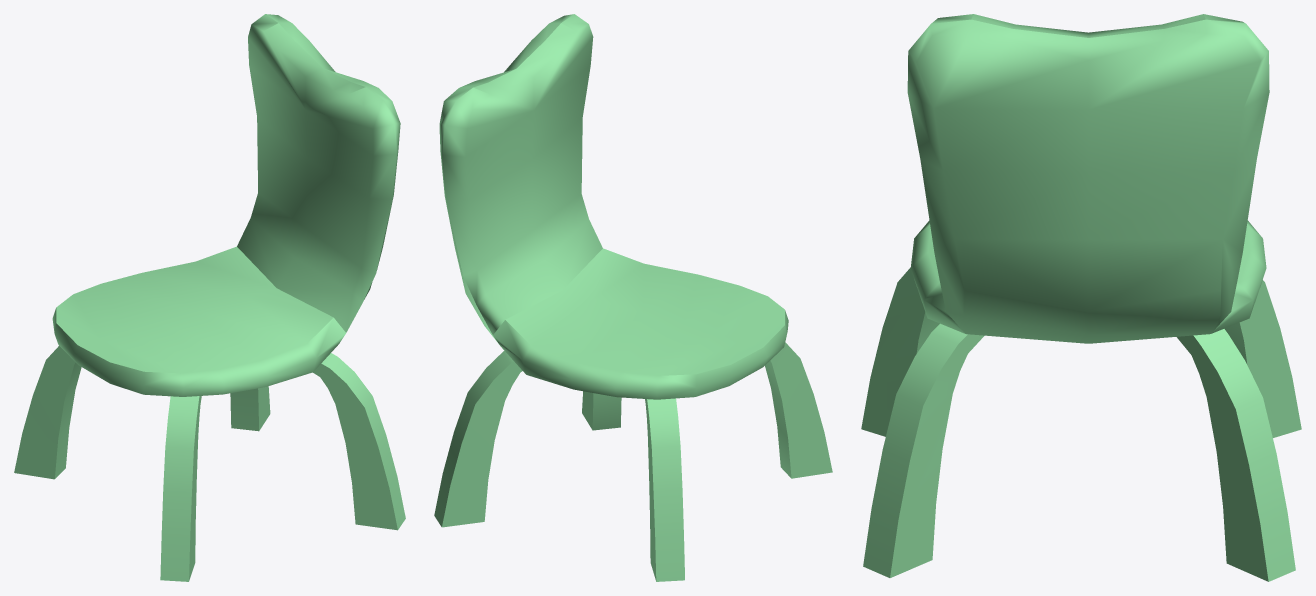
The model's file is Kökkö_chair.fbx.
The picture shows the model from 3 angles, left to right: view 1: azimuth 30°, elevation 25°; view 2: azimuth 150°, elevation 25°; view 3: azimuth 270°, elevation 25°; orthographic projection. The views are drawn at different scales.
Parts seen in each view (by area): view 1: Chair, Leg.003, Leg.001, Leg, Leg.002; view 2: Chair, Leg.002, Leg, Leg.001, Leg.003; view 3: Chair, Leg.003, Leg.002, Leg.001, Leg.
Part boxes in pixels (box(x1,y1,x2,y2)): Chair: box(52, 14, 400, 396); Leg.003: box(313, 353, 405, 530); Leg.001: box(160, 396, 201, 581); Leg: box(14, 346, 81, 479); Leg.002: box(230, 386, 270, 431); Chair: box(439, 14, 788, 399); Leg.002: box(434, 351, 522, 527); Leg: box(645, 398, 684, 581); Leg.001: box(765, 342, 832, 478); Leg.003: box(582, 391, 621, 430); Chair: box(907, 14, 1269, 343); Leg.003: box(863, 323, 984, 577); Leg.002: box(1177, 329, 1295, 581); Leg.001: box(861, 267, 939, 436); Leg: box(1224, 280, 1301, 437).
Size of the model in its own units: 225 by 330 by 238.
